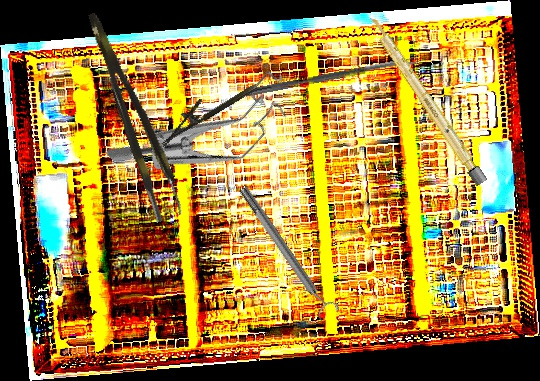Fixation Ring: (233, 180, 341, 324)
Needle Holder: (151, 70, 259, 148)
Scalpel Handle: (365, 14, 488, 187)
Speculum: (103, 23, 307, 228)
Surgical Spoon: (244, 56, 419, 98)
Tissue Forceps: (85, 5, 186, 224)
